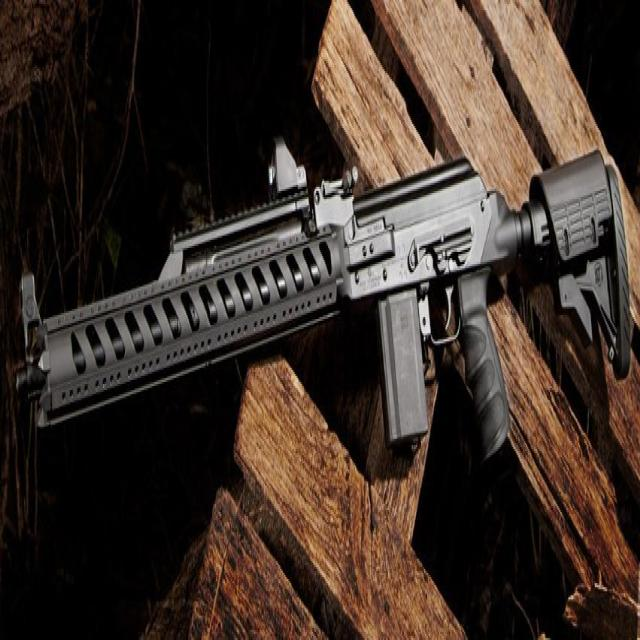firearm: (11, 128, 632, 474)
